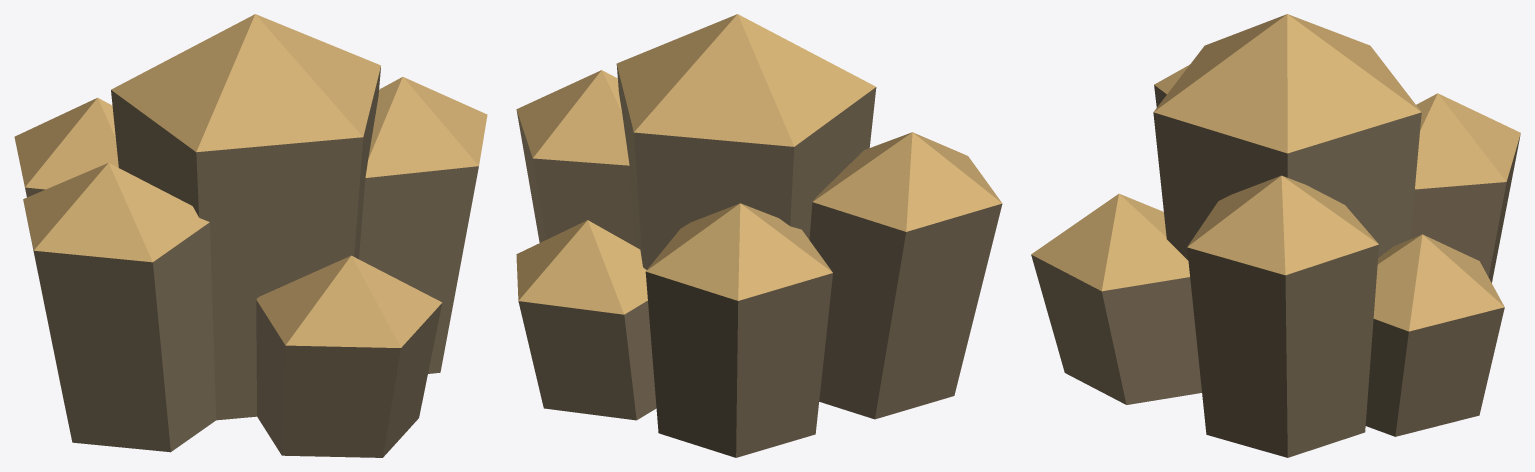
Rendered from TB_D_Env_CactusI_B.FBX.
3 views of the same model, side by side, from view 1: azimuth 30°, elevation 25°; view 2: azimuth 150°, elevation 25°; view 3: azimuth 270°, elevation 25° (orthographic). The views are drawn at different scales.
Visible parts, largest first — view 1: TB_D_Env_CactusI_B; view 2: TB_D_Env_CactusI_B; view 3: TB_D_Env_CactusI_B.
Part boxes in pixels (<box>): TB_D_Env_CactusI_B: <box>14,14,487,457</box>; TB_D_Env_CactusI_B: <box>516,14,1002,457</box>; TB_D_Env_CactusI_B: <box>1031,14,1520,457</box>.
Bounding box in the file's own units: 0.4077 × 0.2949 × 0.3711.
